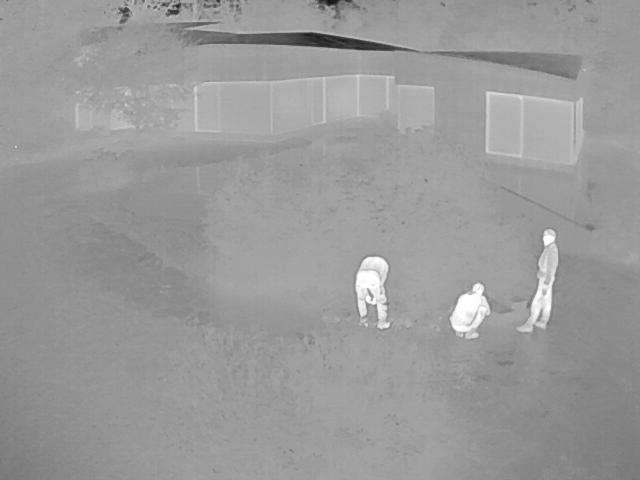person: (518, 228, 558, 331), (450, 282, 492, 342), (358, 255, 391, 329)
